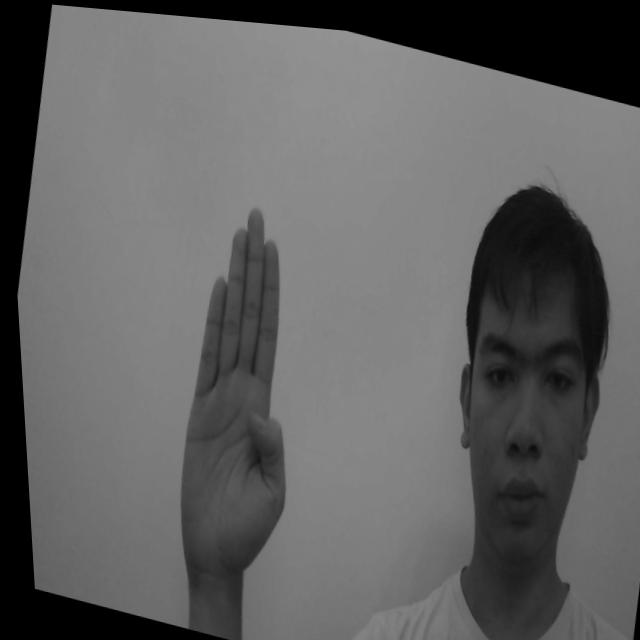B: (147, 186, 335, 583)
